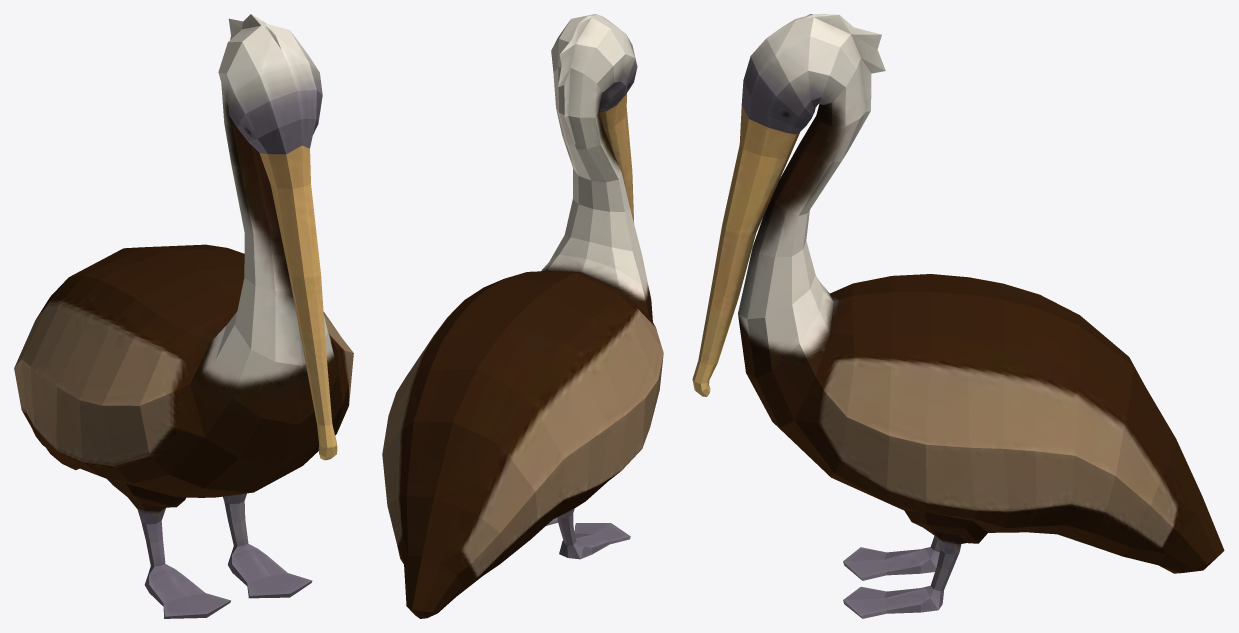
Rendered from animals-brown-pelican-024.glb.
3 renders of one model, left to right at view 1: azimuth 30°, elevation 25°; view 2: azimuth 150°, elevation 25°; view 3: azimuth 270°, elevation 25°, orthographic. The views are drawn at different scales.
Parts seen in each view (by area): view 1: BrownPelican_mesh; view 2: BrownPelican_mesh; view 3: BrownPelican_mesh.
Part boxes in pixels (x1,y1,x2,y2): BrownPelican_mesh: (14, 14, 353, 618); BrownPelican_mesh: (382, 14, 663, 618); BrownPelican_mesh: (692, 14, 1224, 618).
Size of the model in its own units: 3.88 by 8.78 by 7.42.
1 material, 1 textured.
